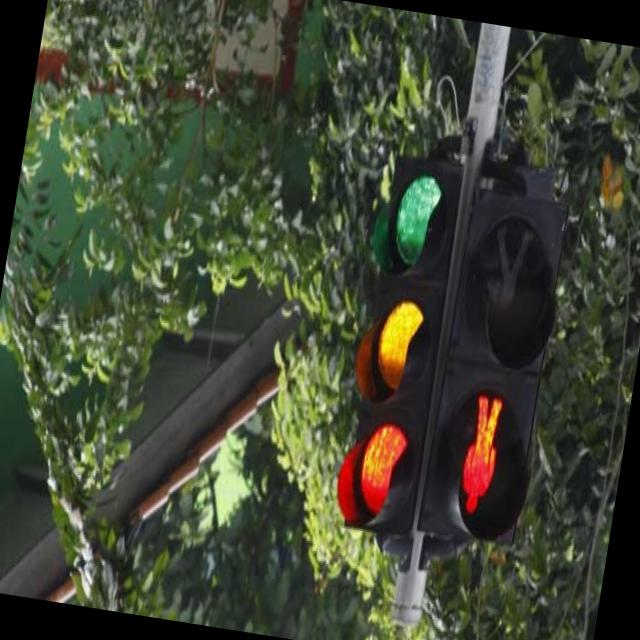green-lights: (386, 171, 446, 275)
red-lights: (352, 417, 411, 520)
yellow-lights: (369, 294, 427, 398)
